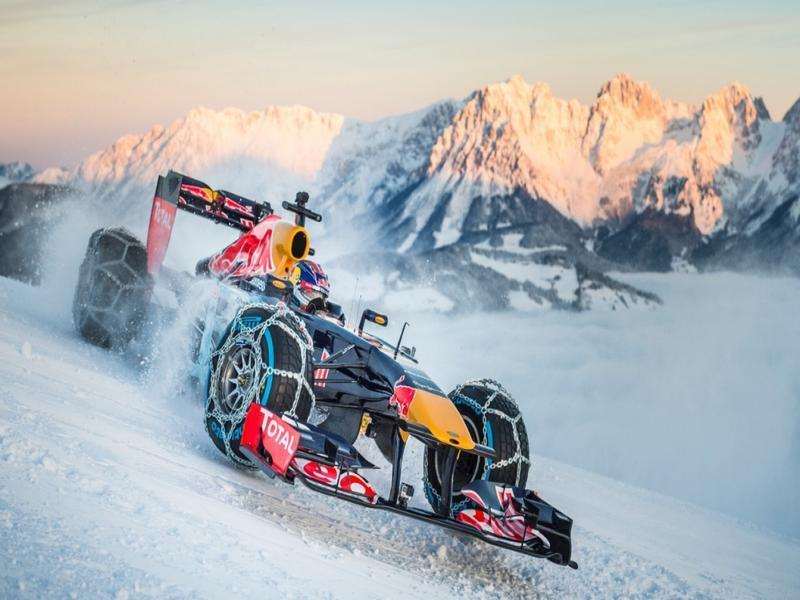f1: (67, 164, 608, 568)
